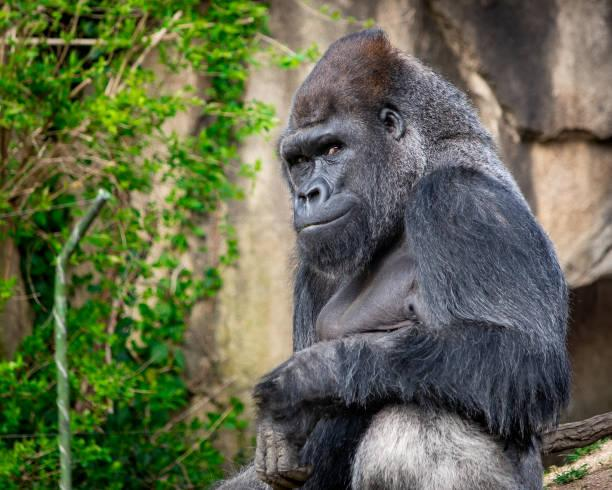gorille_Autres: (228, 13, 579, 490)
